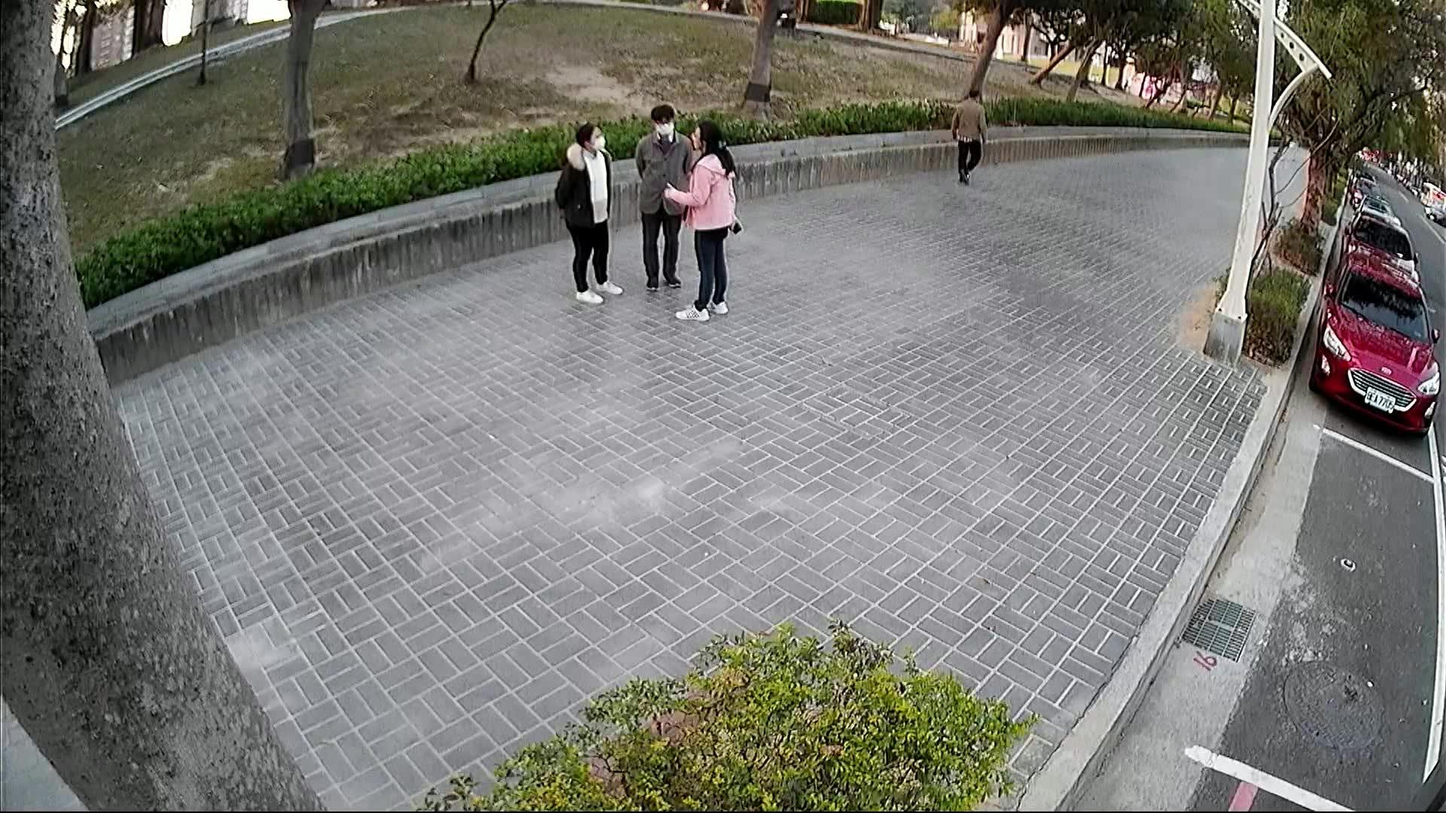person: (659, 116, 745, 324), (548, 117, 624, 307), (631, 99, 695, 292), (946, 84, 991, 187)
